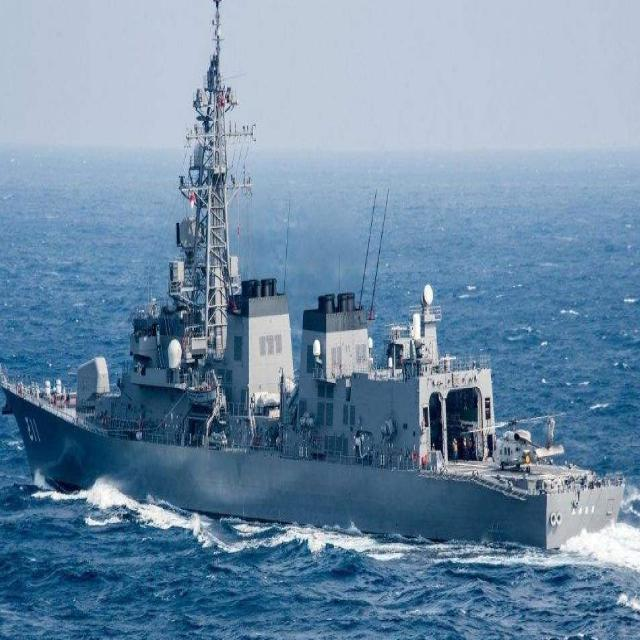navalvessels: (0, 15, 623, 563)
